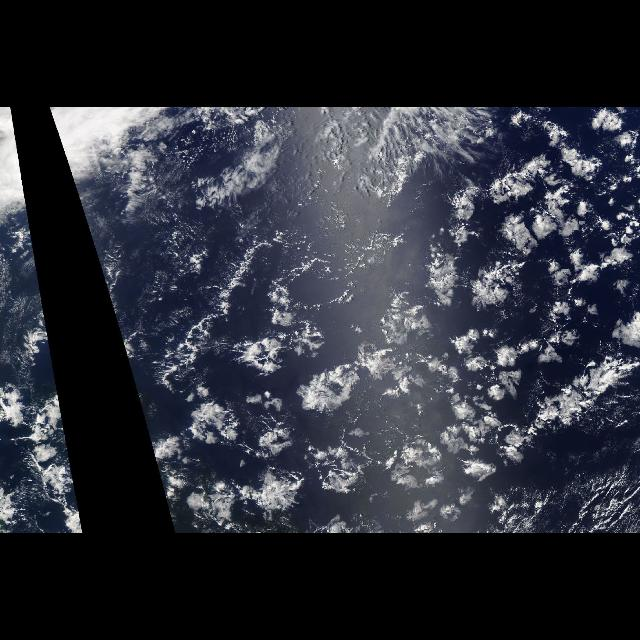Fish: (512, 324, 632, 464)
Flower: (143, 132, 633, 524)
